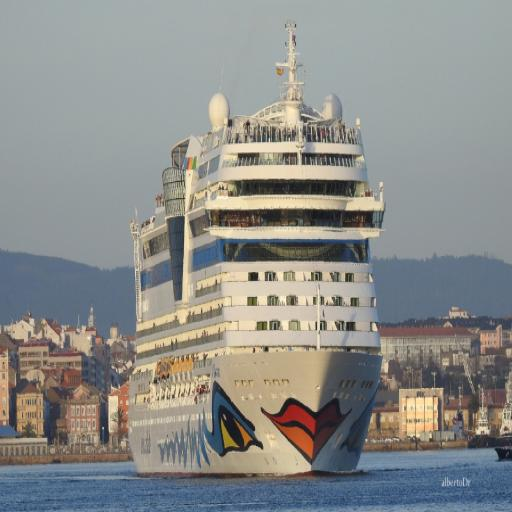cruises: (122, 10, 392, 489)
